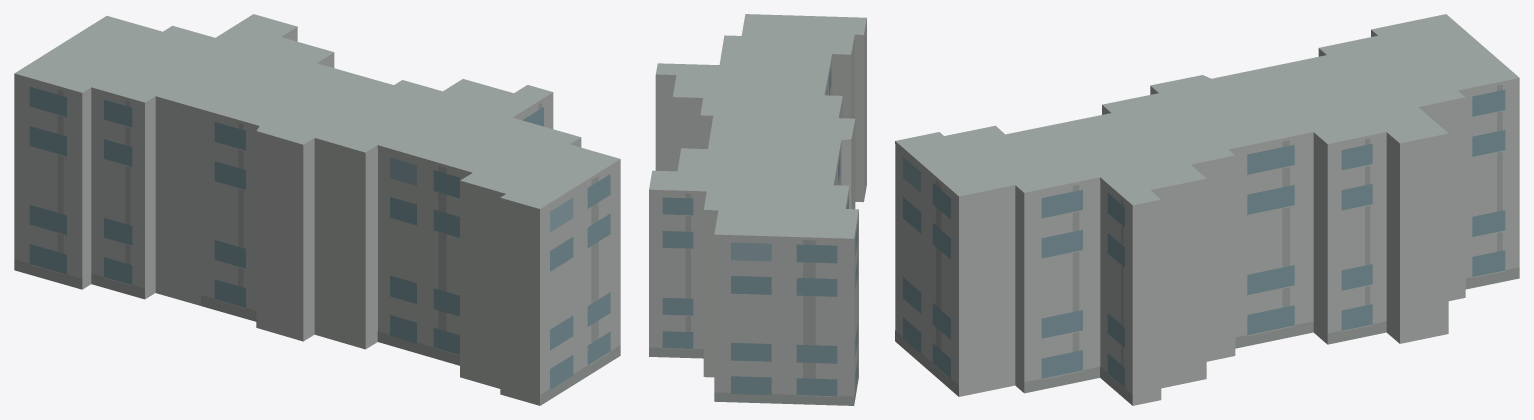
Rendered from residential-23cb8d6e-6ec0-4419-bed8-698d54525aee.glb.
The picture shows the model from 3 angles, left to right: view 1: azimuth 30°, elevation 25°; view 2: azimuth 150°, elevation 25°; view 3: azimuth 270°, elevation 25°; orthographic projection. The views are drawn at different scales.
Visible parts, largest first — view 1: residential-23cb8d6e-6ec0-4419-bed8-698d54525aee.tmp; view 2: residential-23cb8d6e-6ec0-4419-bed8-698d54525aee.tmp; view 3: residential-23cb8d6e-6ec0-4419-bed8-698d54525aee.tmp.
Boxes of the visible parts, bbox=[...] form: residential-23cb8d6e-6ec0-4419-bed8-698d54525aee.tmp: bbox=[14, 14, 620, 405]; residential-23cb8d6e-6ec0-4419-bed8-698d54525aee.tmp: bbox=[649, 14, 866, 405]; residential-23cb8d6e-6ec0-4419-bed8-698d54525aee.tmp: bbox=[895, 14, 1519, 405].
Size of the model in its own units: 31.23 by 15.25 by 43.06.
